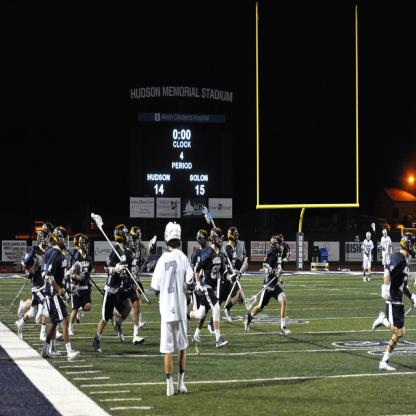Helmet: (398, 232, 416, 260), (53, 226, 70, 253), (164, 219, 181, 245), (114, 223, 130, 247), (208, 228, 224, 251), (77, 232, 90, 256), (227, 224, 240, 245), (39, 230, 51, 252), (271, 235, 284, 254), (41, 222, 54, 240), (197, 229, 209, 248), (282, 241, 291, 263), (129, 235, 139, 253), (132, 224, 142, 242), (38, 226, 44, 241), (74, 232, 80, 247), (382, 228, 388, 240), (366, 232, 372, 243)
